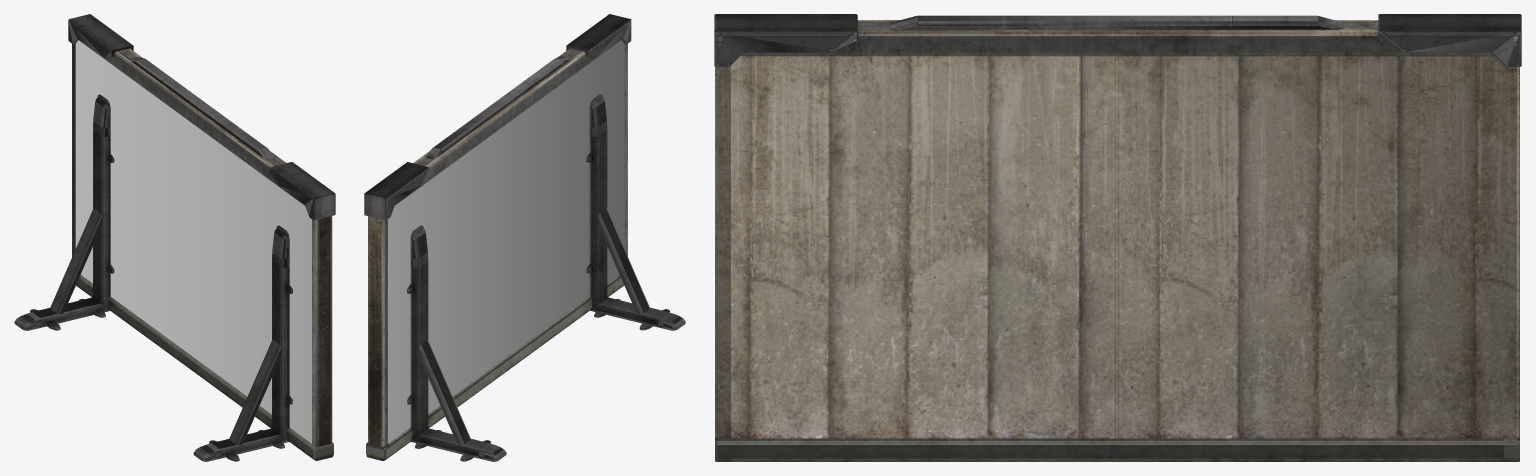
The model's file is murExt.fbx.
3 renders of one model, left to right at view 1: azimuth 30°, elevation 25°; view 2: azimuth 150°, elevation 25°; view 3: azimuth 270°, elevation 25°, orthographic. The views are drawn at different scales.
Visible parts, largest first — view 1: wall_boundary_005; view 2: wall_boundary_005; view 3: wall_boundary_005.
Part boxes in pixels (bbox=[...]): wall_boundary_005: bbox=[14, 14, 335, 461]; wall_boundary_005: bbox=[364, 14, 685, 461]; wall_boundary_005: bbox=[714, 14, 1521, 461].
Size of the model in its own units: 96.39 by 234 by 391.
